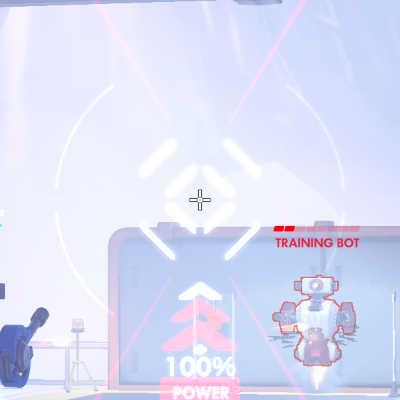hpbar: (273, 225, 360, 233)
